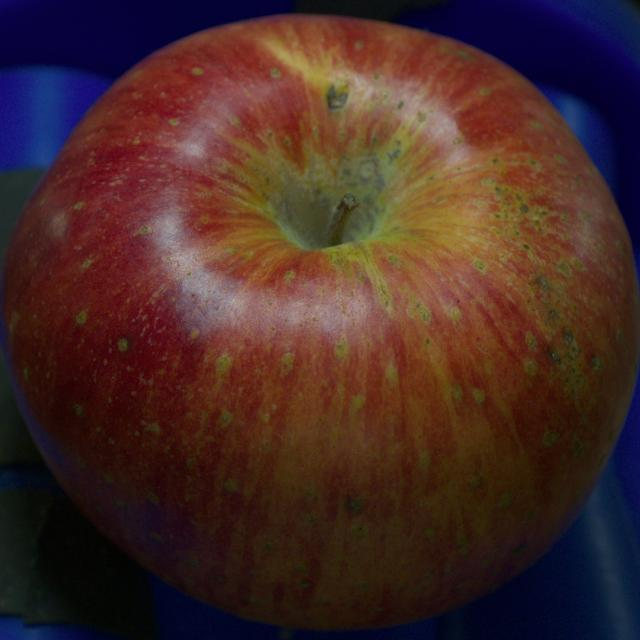apple: (0, 16, 639, 628)
pest: (327, 83, 348, 109), (346, 496, 363, 512), (549, 350, 561, 364), (591, 356, 602, 370), (474, 260, 486, 270), (520, 204, 528, 212)
